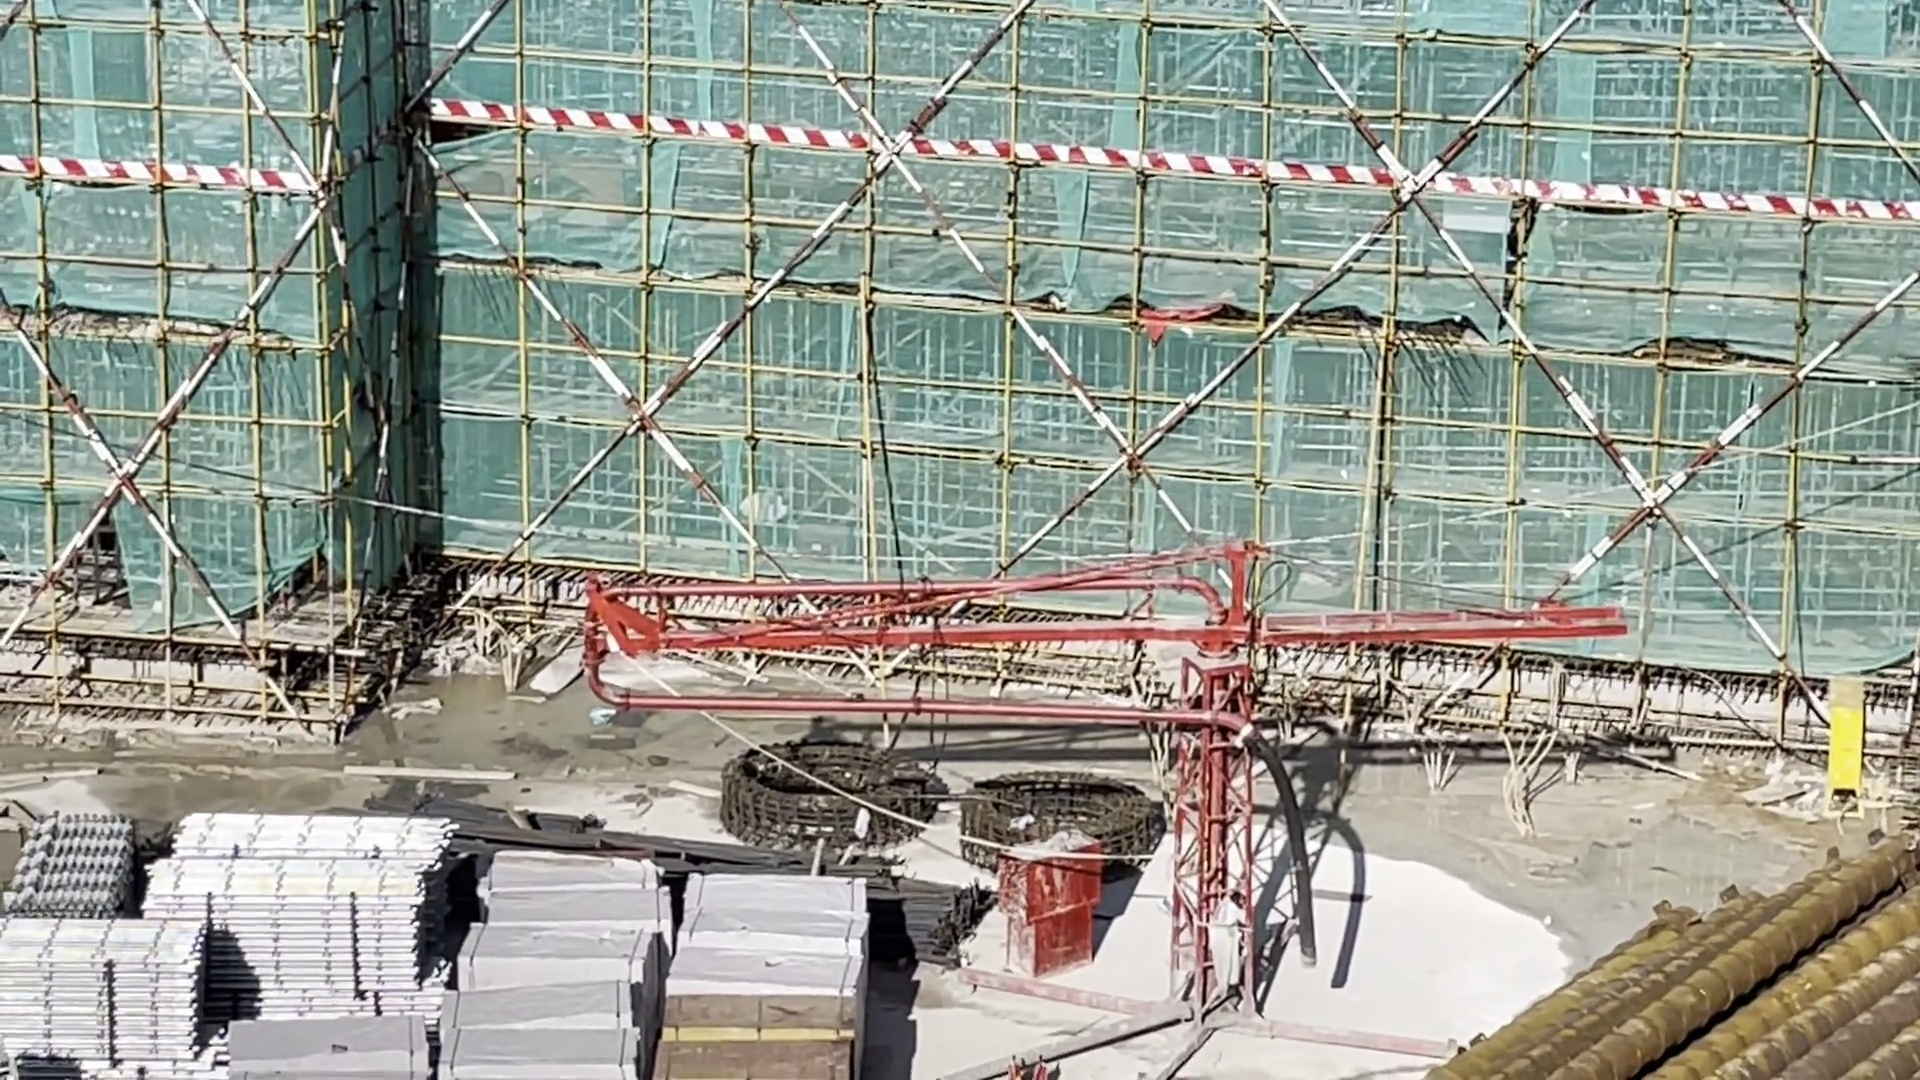ebox: (1816, 667, 1855, 824)
rebar: (1418, 825, 1920, 1077), (436, 820, 791, 874), (881, 872, 959, 965)
scaffold: (169, 814, 429, 982), (15, 926, 199, 1067), (38, 811, 133, 931)
